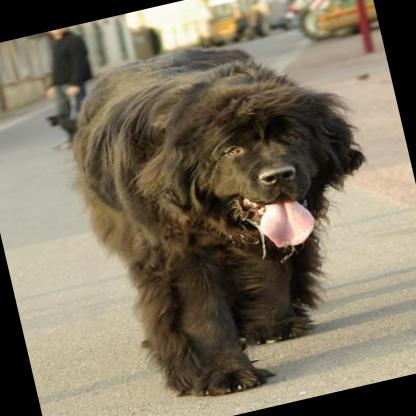Newfoundland: (53, 13, 409, 414)
